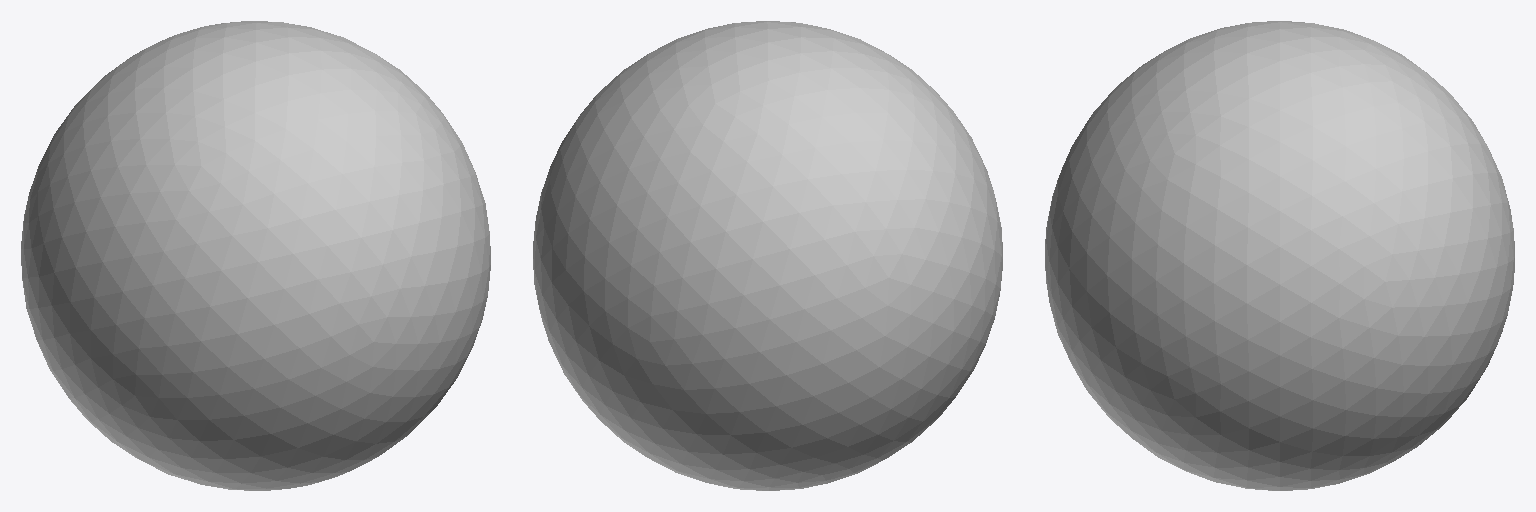
The model's file is sphere_fine.obj.
3 views of the same model, side by side, from view 1: azimuth 30°, elevation 25°; view 2: azimuth 150°, elevation 25°; view 3: azimuth 270°, elevation 25° (orthographic).
Parts seen in each view (by area): view 1: Icosphere; view 2: Icosphere; view 3: Icosphere.
Boxes of the visible parts, x1=… form: Icosphere: x1=21, y1=21, x2=490, y2=490; Icosphere: x1=533, y1=21, x2=1002, y2=490; Icosphere: x1=1045, y1=21, x2=1514, y2=490.
Size of the model in its own units: 2 by 2 by 2.